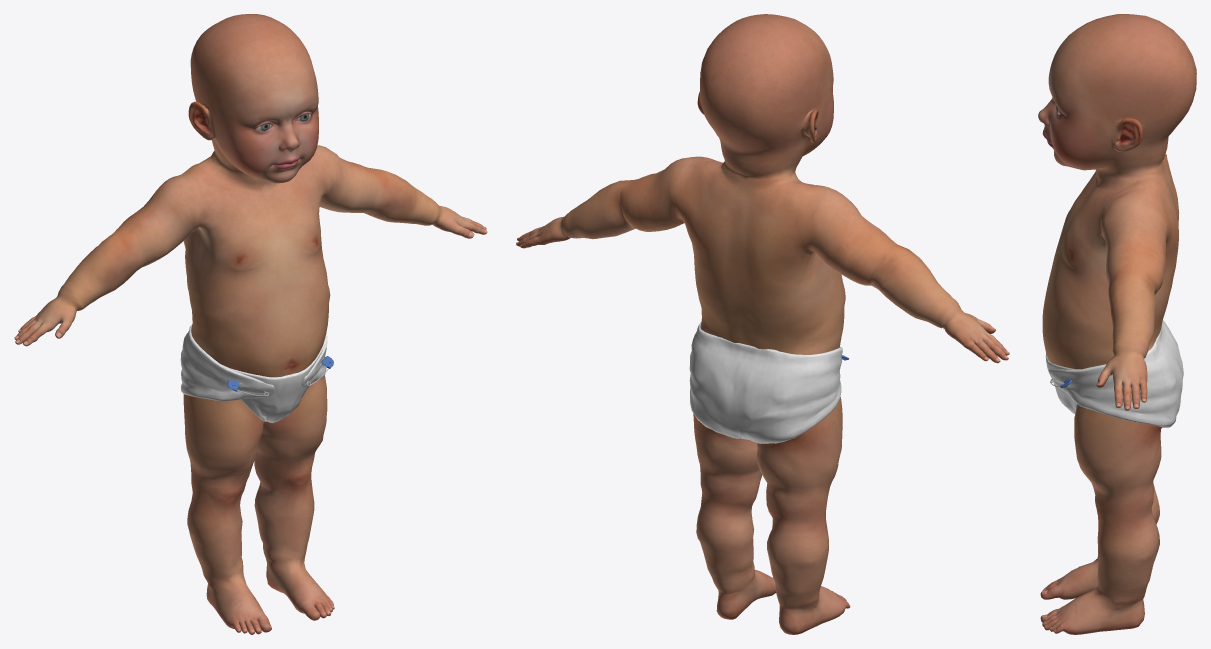
File: baby_mixamo_unrigged.fbx
The picture shows the model from 3 angles, left to right: view 1: azimuth 30°, elevation 25°; view 2: azimuth 150°, elevation 25°; view 3: azimuth 270°, elevation 25°; orthographic projection. The views are drawn at different scales.
Parts seen in each view (by area): view 1: Baby_Mixamo; view 2: Baby_Mixamo; view 3: Baby_Mixamo.
Part boxes in pixels (left/top/right/bottom): Baby_Mixamo: left=14, top=14, right=487, bottom=634; Baby_Mixamo: left=516, top=14, right=1009, bottom=634; Baby_Mixamo: left=1038, top=14, right=1196, bottom=634.
Bounding box in the file's own units: 0.504 × 0.5915 × 0.1436.
Materials: 1 (1 with a texture image).
